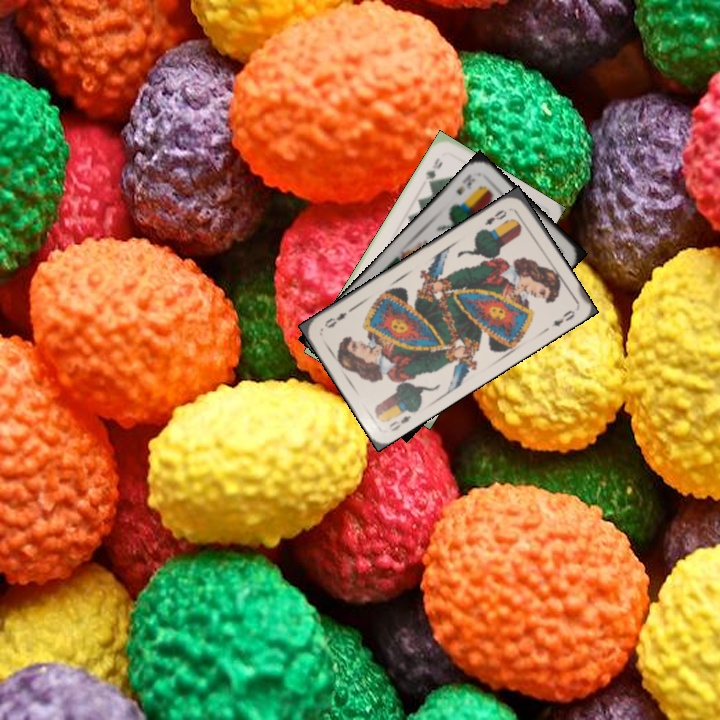EK: (452, 170, 478, 198)
EO: (385, 411, 414, 434), (481, 205, 509, 228)
G9: (421, 153, 445, 188)
